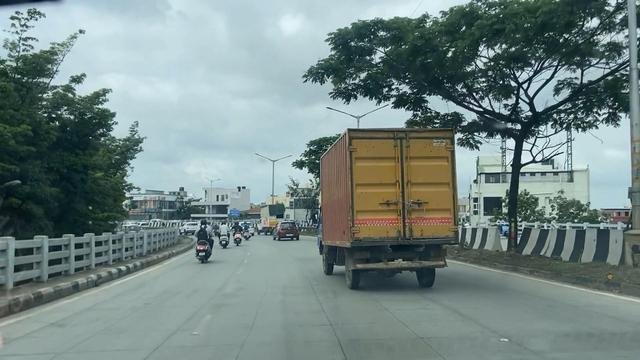HMV: (332, 123, 466, 290)
LMV: (196, 215, 217, 261), (273, 218, 298, 244), (216, 217, 234, 250), (232, 213, 243, 248)
